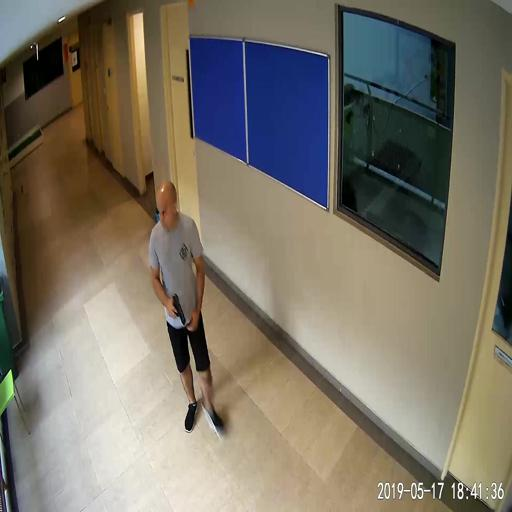pistol: (171, 293, 184, 324)
